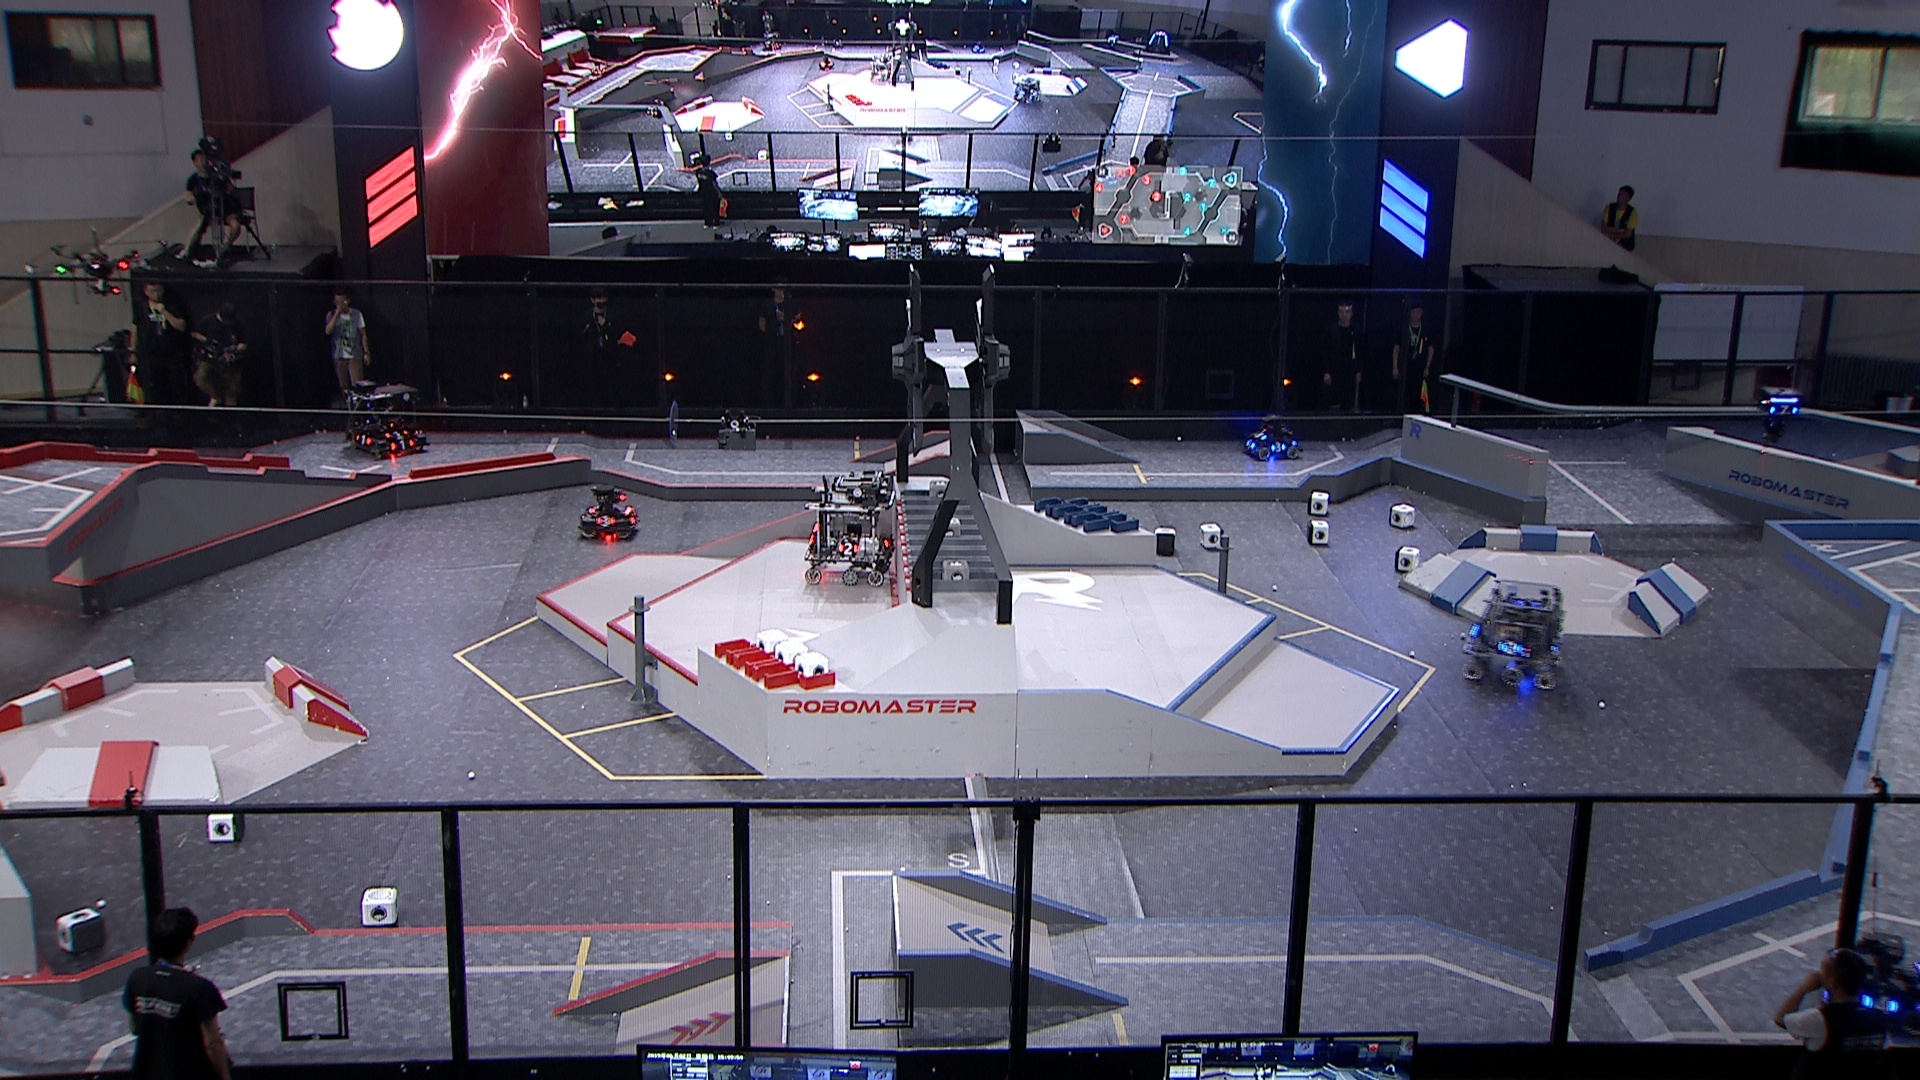armor: (1861, 992, 1902, 1017), (1766, 401, 1801, 418), (1498, 638, 1524, 659), (386, 436, 415, 454), (380, 429, 410, 442), (352, 433, 373, 448), (837, 542, 858, 556), (593, 513, 615, 527), (583, 502, 599, 520), (1249, 429, 1269, 442), (1269, 440, 1288, 454), (1244, 434, 1259, 450)
car: (1457, 579, 1571, 692), (803, 463, 906, 584), (1818, 931, 1920, 1046), (338, 380, 430, 460), (574, 484, 641, 542), (1238, 413, 1304, 462)
ignore: (1011, 73, 1040, 109), (1143, 29, 1174, 58), (646, 92, 669, 119), (761, 32, 783, 51), (818, 55, 833, 69)
watcher: (1756, 381, 1807, 444)
